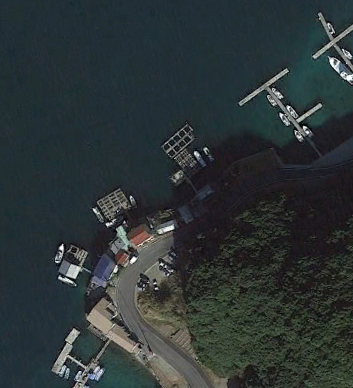house: (81, 296, 143, 352), (90, 252, 118, 289), (125, 221, 154, 247), (112, 249, 137, 268), (153, 217, 177, 235), (177, 202, 195, 223)
platform: (44, 326, 79, 373), (63, 260, 81, 272)
ship: (326, 55, 353, 83), (58, 274, 81, 291), (192, 150, 208, 169), (283, 103, 299, 119), (302, 124, 318, 140), (89, 367, 103, 381), (278, 112, 291, 126), (266, 93, 278, 108), (93, 206, 103, 222), (271, 85, 283, 98), (293, 130, 303, 143), (204, 147, 212, 162), (63, 365, 71, 379), (56, 243, 60, 265), (130, 195, 137, 206)
